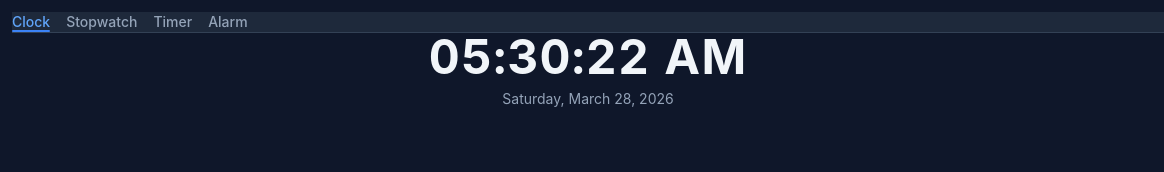
Clock › switches to timer tab
The width and height of the screenshot is (1164, 172).
Click the button "Timer". click: (173, 22)
box: [153,12,192,32]
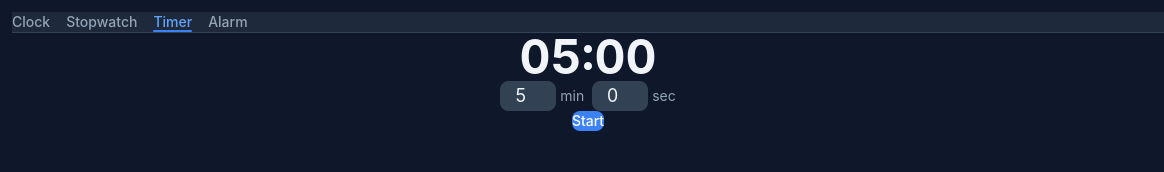
Expected: the text "min" is shown, [560,86,584,106]
Expected: the text "sec" is shown, [652,86,676,106]
